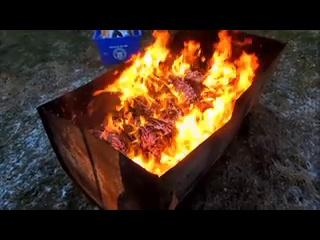fire: (93, 31, 260, 182)
